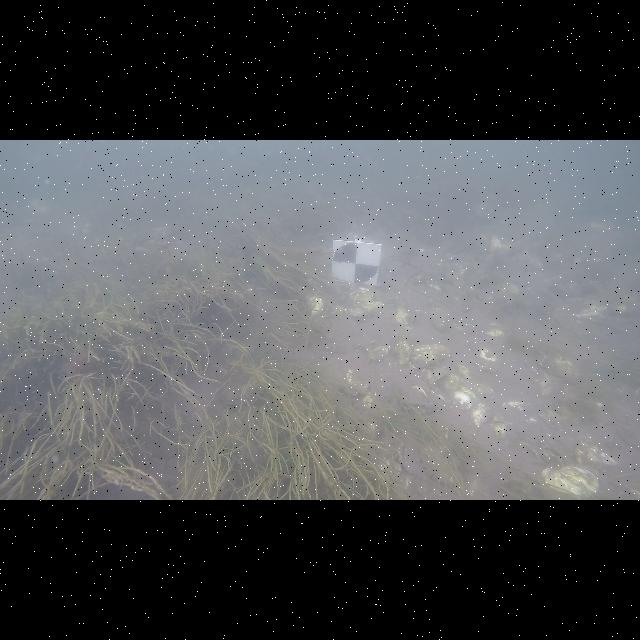Oyster-Closed: (418, 442, 461, 487), (541, 466, 599, 496), (411, 344, 449, 368), (508, 398, 534, 429), (351, 288, 382, 311), (346, 370, 369, 391), (395, 335, 411, 365), (478, 349, 498, 371), (421, 368, 448, 384), (493, 419, 509, 443), (471, 404, 488, 426), (308, 295, 324, 316), (454, 391, 472, 409), (395, 306, 411, 326), (369, 346, 390, 360), (361, 391, 375, 409), (458, 365, 472, 379)
Oyster-Open: (403, 384, 432, 411), (348, 301, 382, 321), (396, 440, 413, 476), (409, 310, 419, 324)
